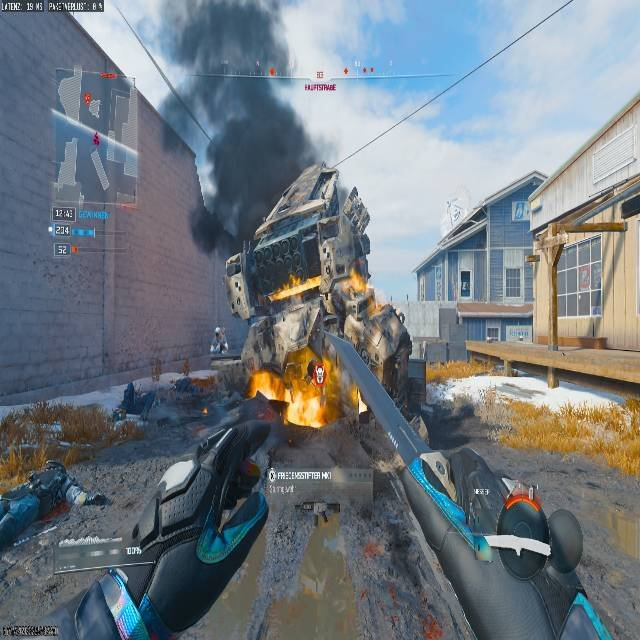player: (212, 326, 228, 354)
